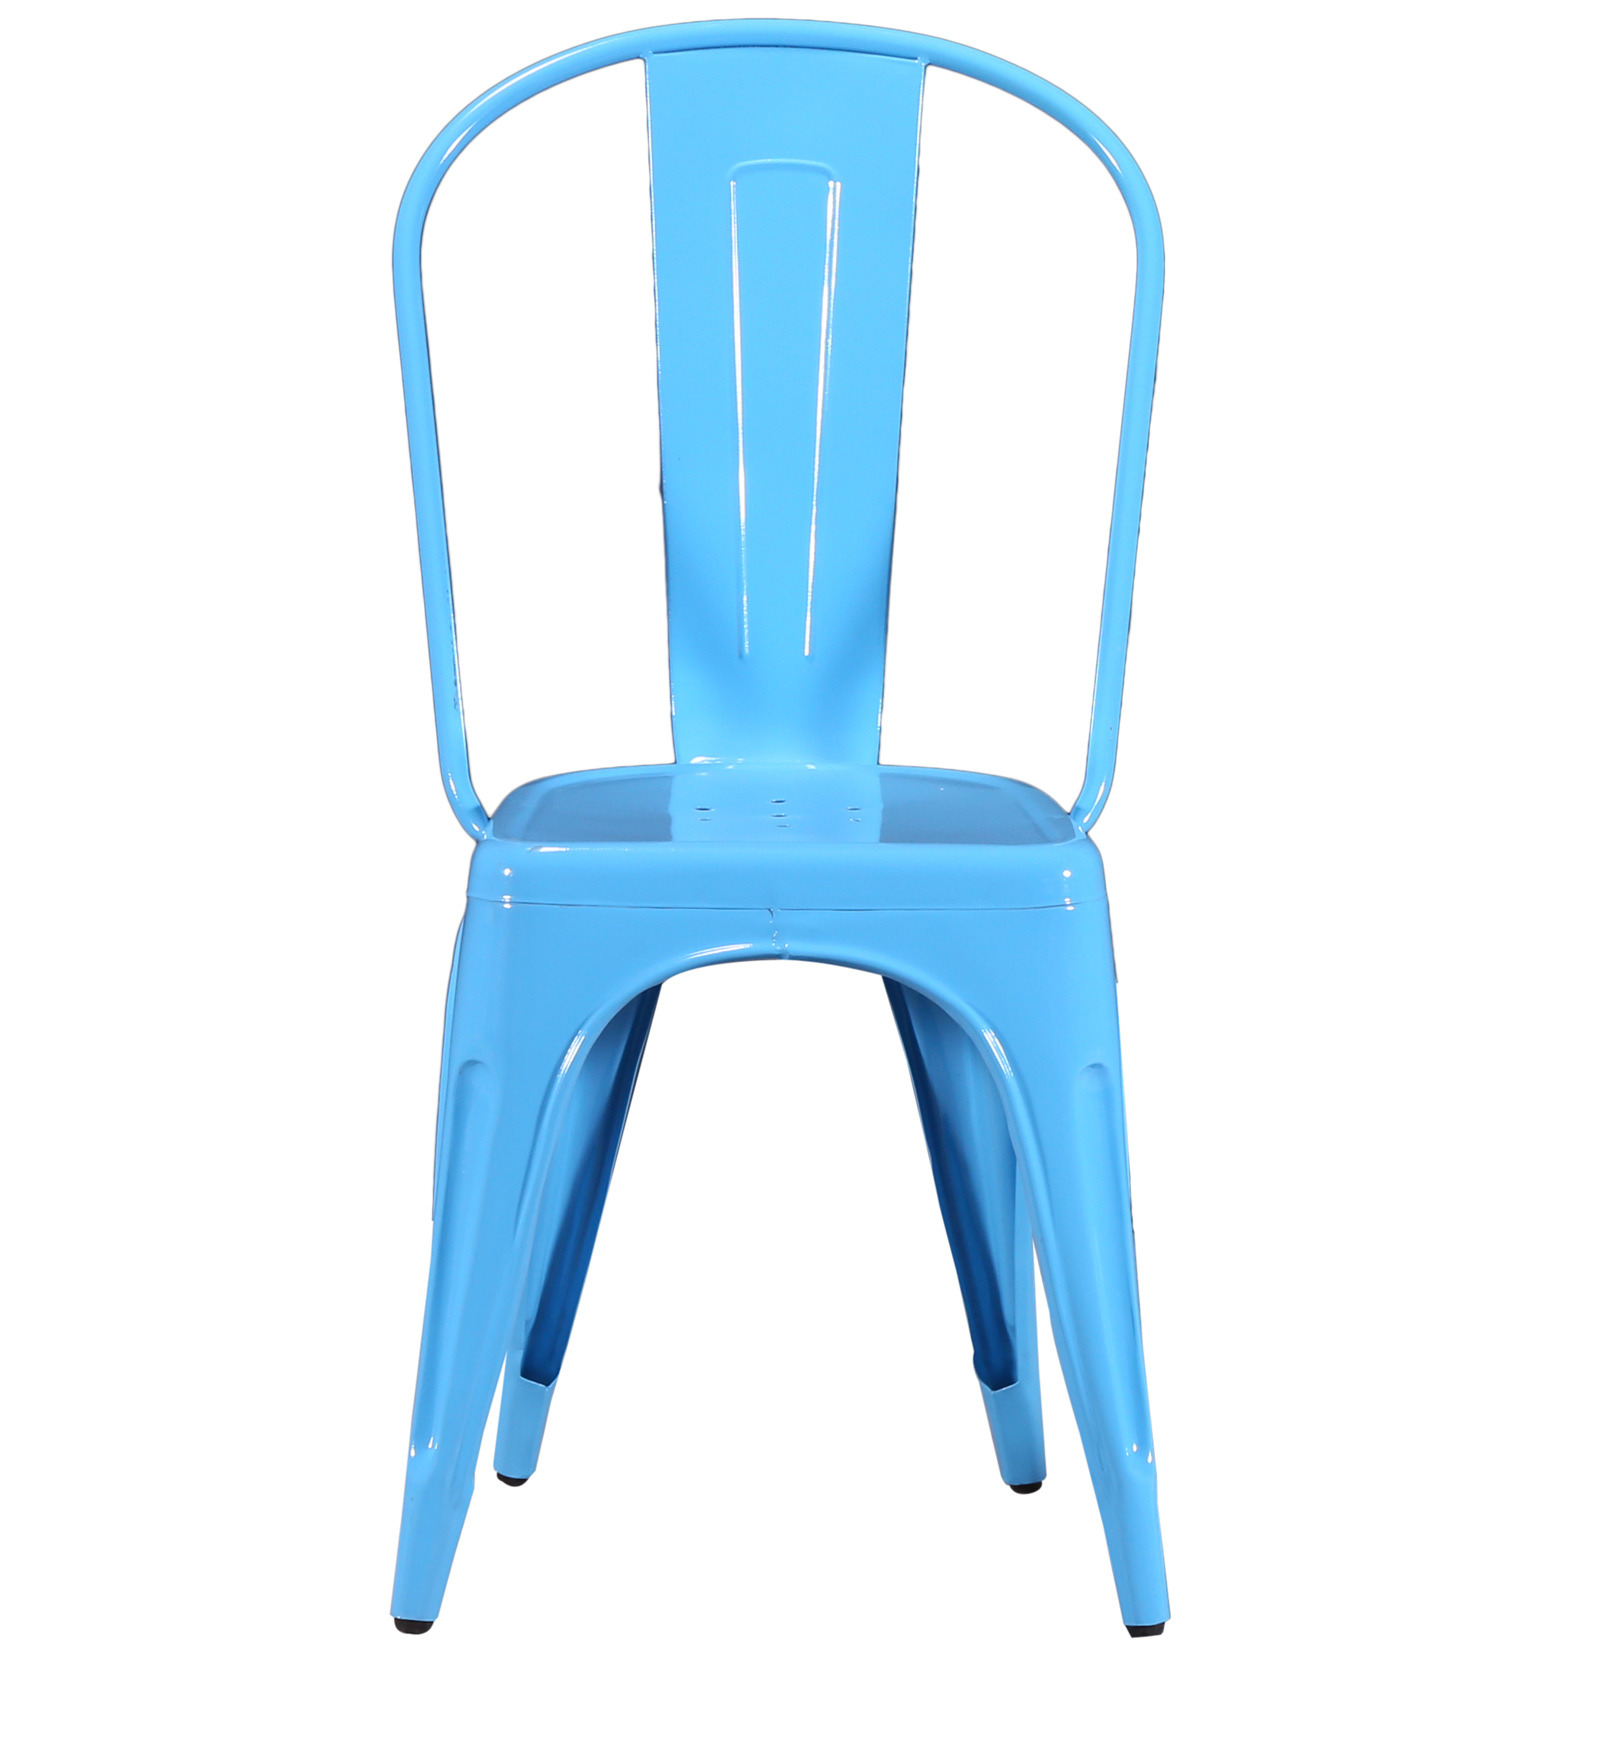Ekati Metal Chair in Blue Color by Bohemiana: (360, 8, 1217, 1696)
